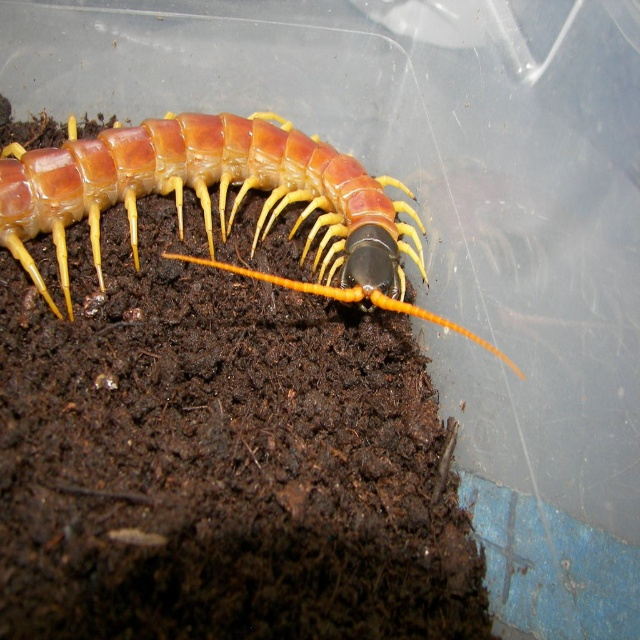Centipede: (0, 112, 524, 378)
